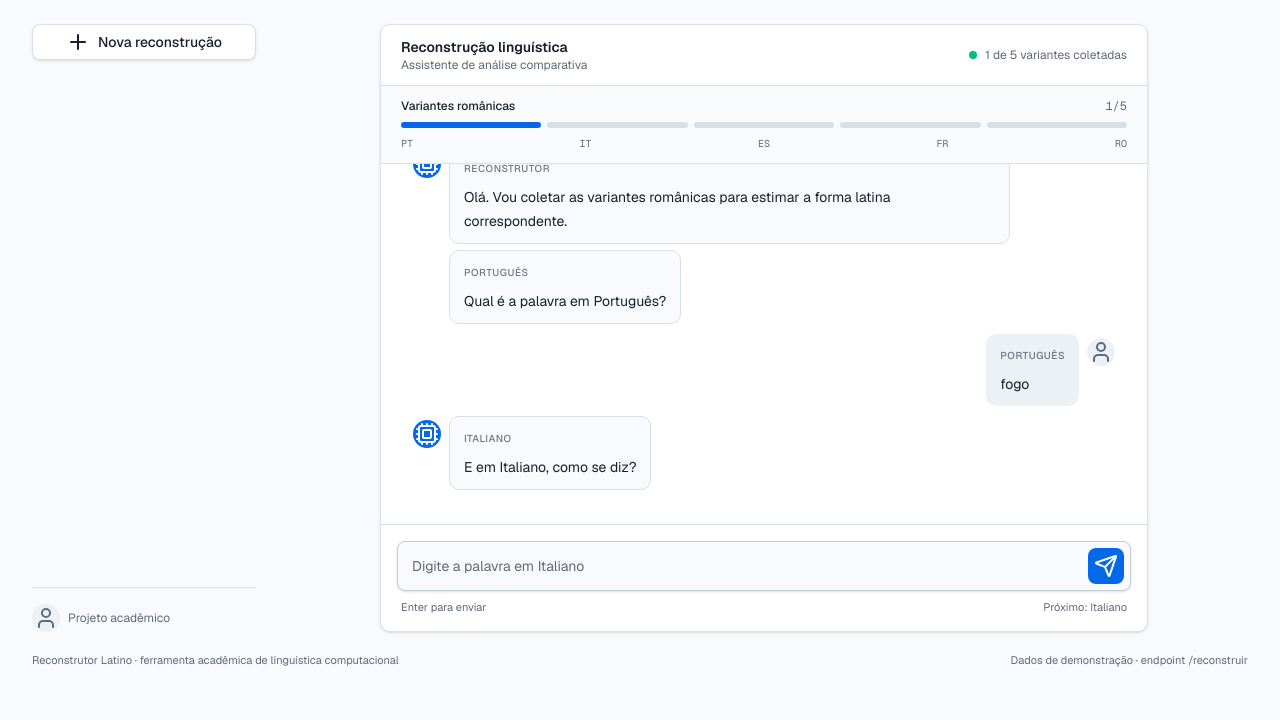
Fluxo do Reconstrutor Latino › exibe a palavra retornada pela reconstrução
This screenshot has width=1280, height=720.
Earlier steps of the test are not shown.
(page scrolled)
Expected: the text "E em Italiano, como se diz?" is shown, 464,455 -> 636,479
Step 1. Type "fuoco" into the field → point(742, 566), box 404,548 -> 1080,584
Step 2. Click the button named "Enviar resposta" → point(1106, 566), box 1088,548 -> 1124,584
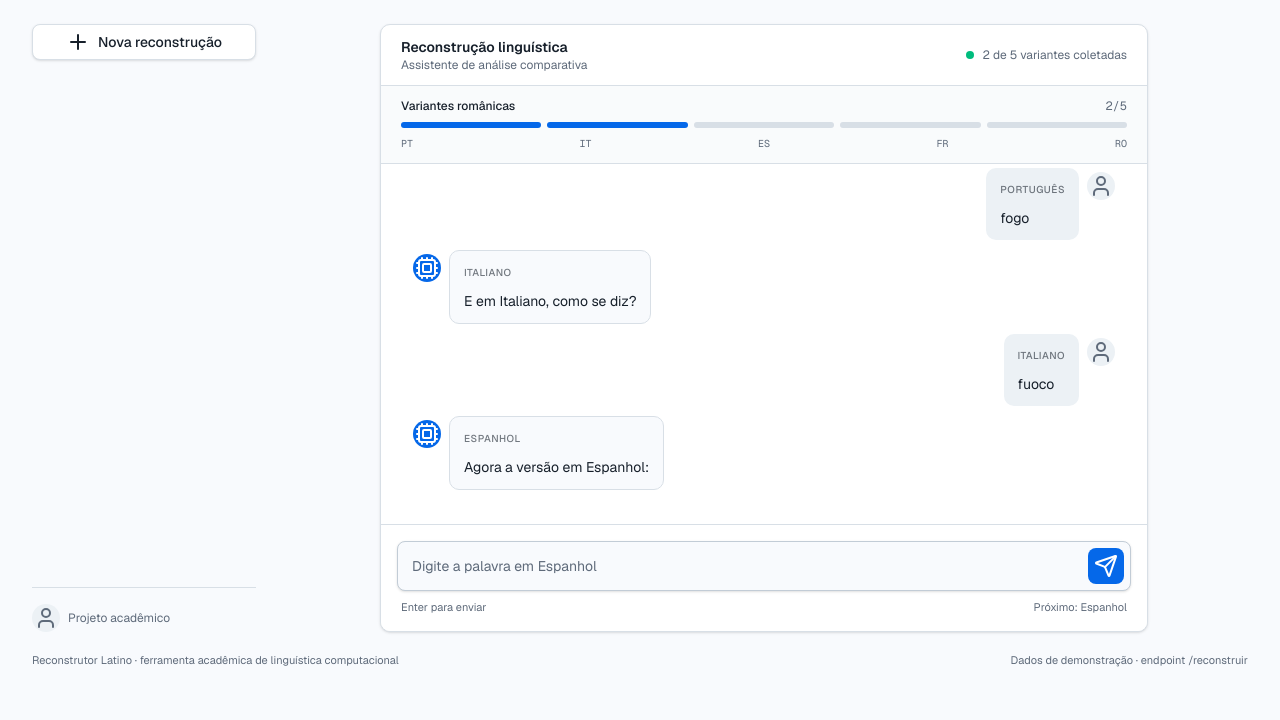
Expected: the text "Agora a versão em Espanhol:" is shown, 464,455 -> 649,479
Step 3. Type "fuego" into the field → point(742, 566), box 404,548 -> 1080,584
Step 4. Click the button named "Enviar resposta" → point(1106, 566), box 1088,548 -> 1124,584
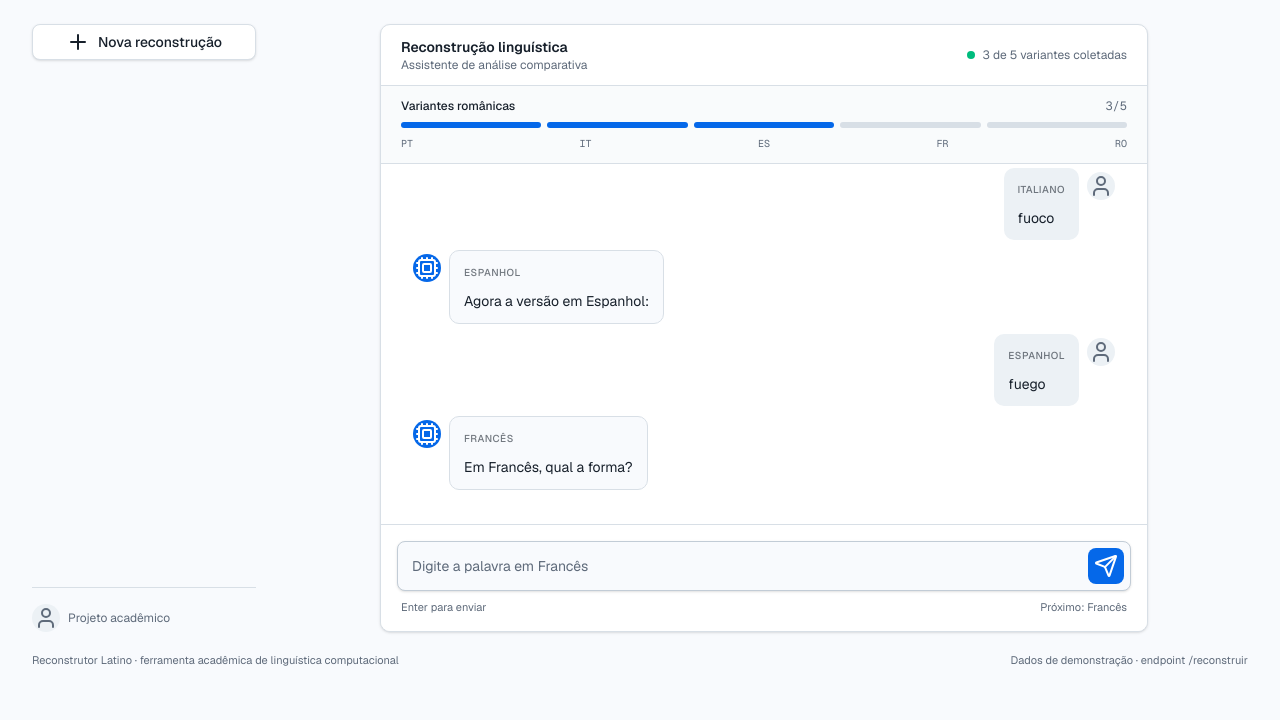
Expected: the text "Em Francês, qual a forma?" is shown, 464,455 -> 633,479
Step 5. Type "feu" into the field → point(742, 566), box 404,548 -> 1080,584
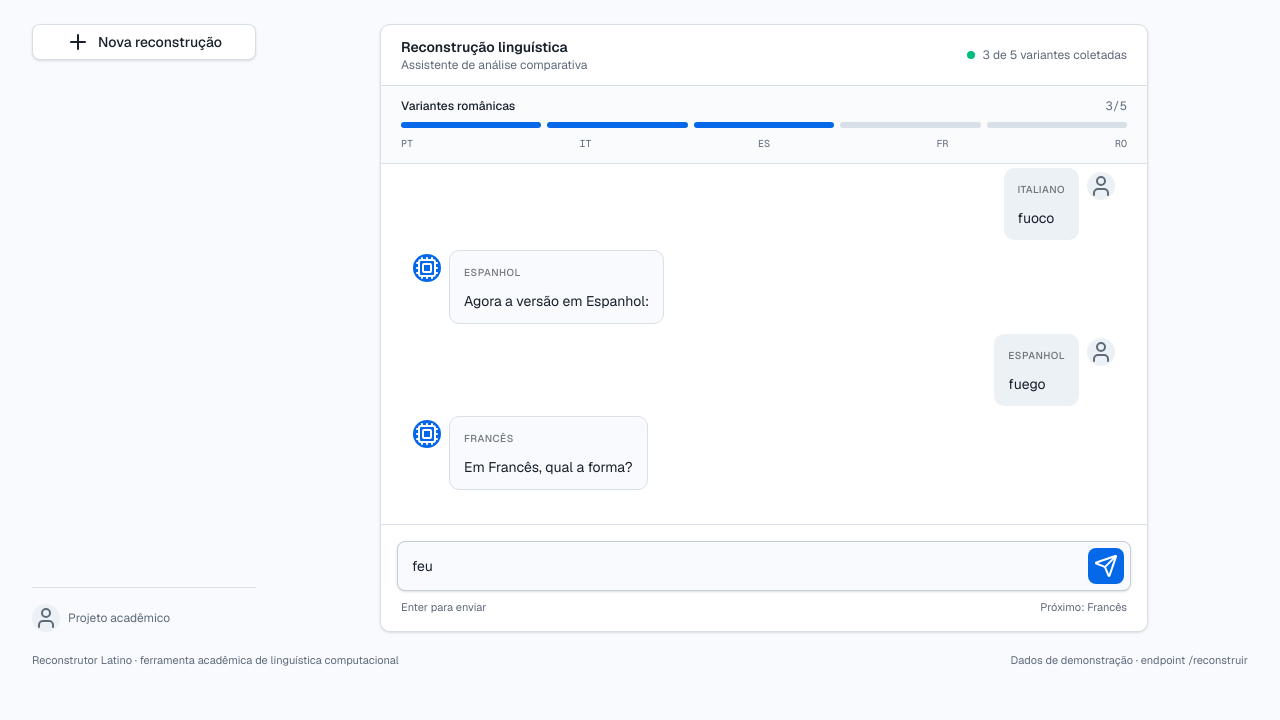
Step 6. Click the button named "Enviar resposta" → point(1106, 566), box 1088,548 -> 1124,584
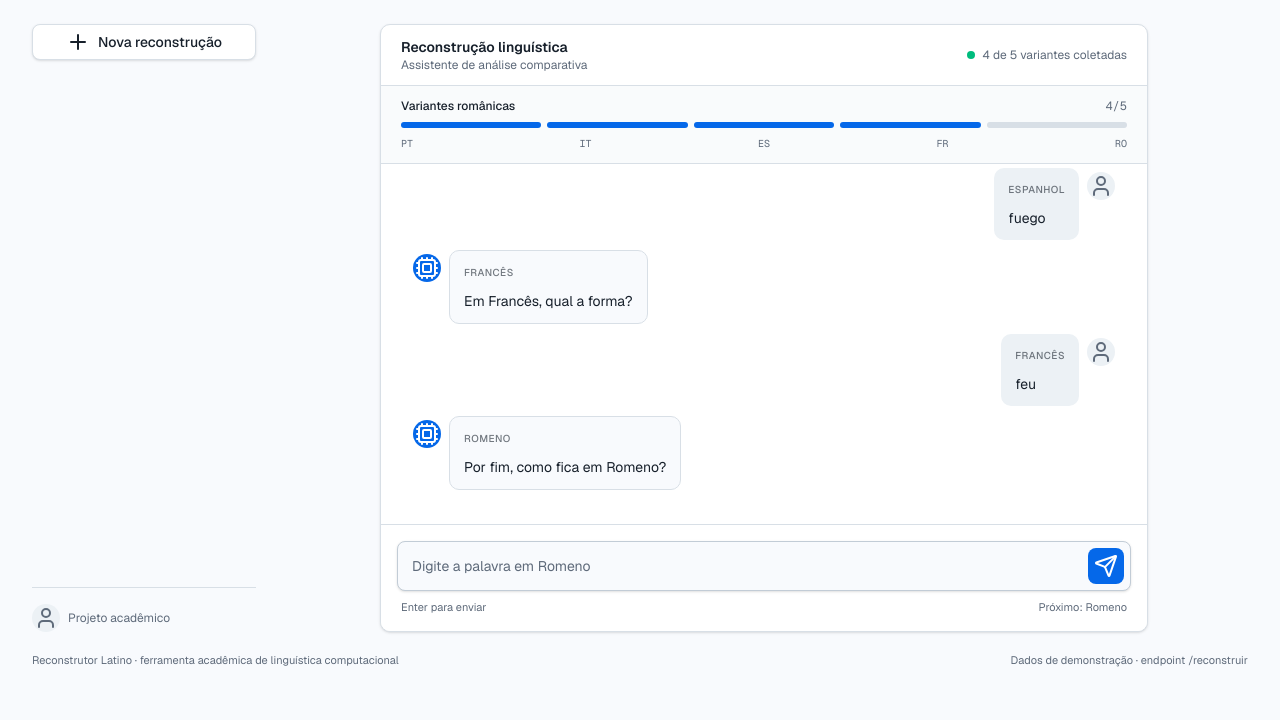
Expected: the text "Por fim, como fica em Romeno?" is shown, 464,455 -> 666,479
Step 7. Type "foc" into the field → point(742, 566), box 404,548 -> 1080,584
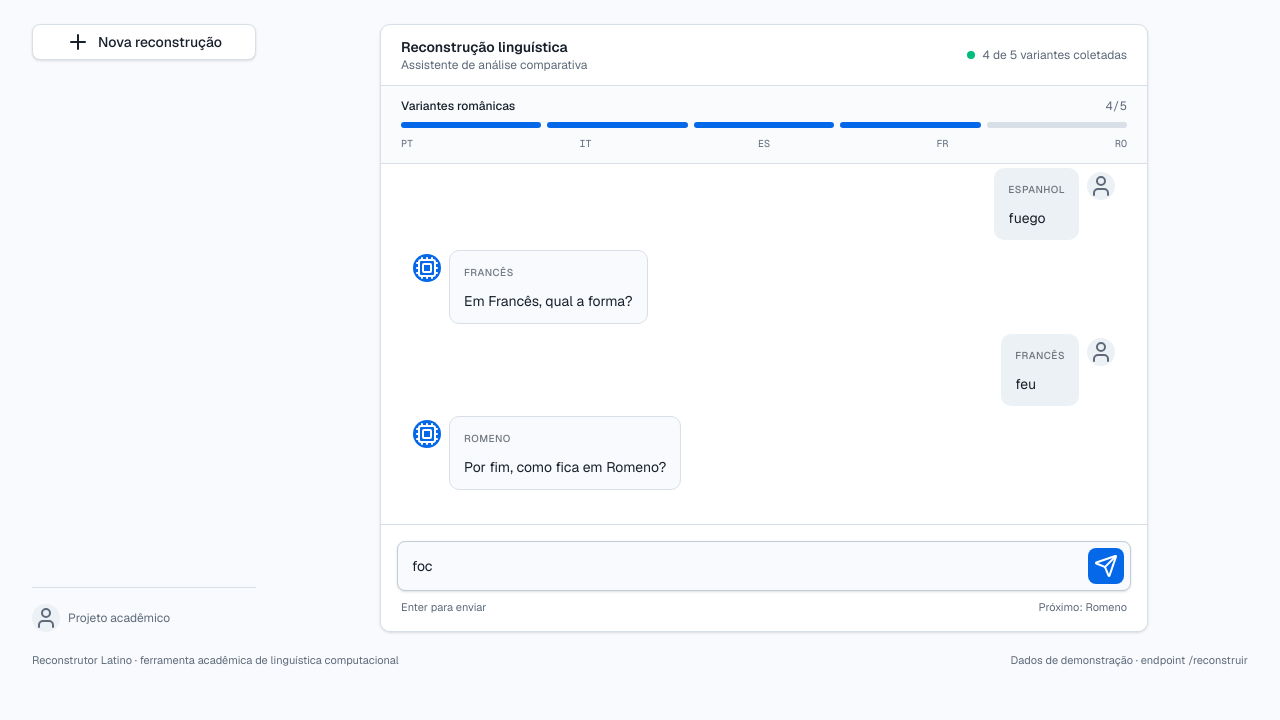
Step 8. Click the button named "Enviar resposta" → point(1106, 566), box 1088,548 -> 1124,584
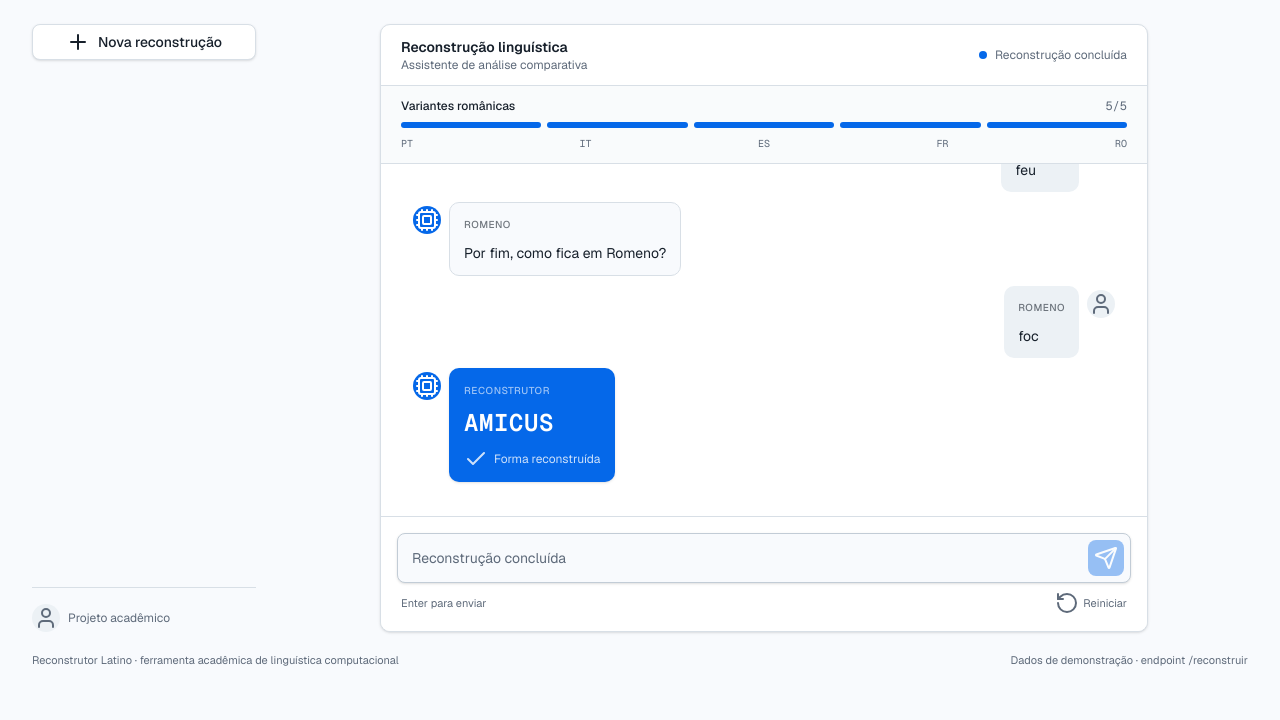
Expected: the text "AMICUS" is shown, 464,407 -> 554,438
Expected: the text "Reconstrução concluída" is shown, 979,47 -> 1127,63
